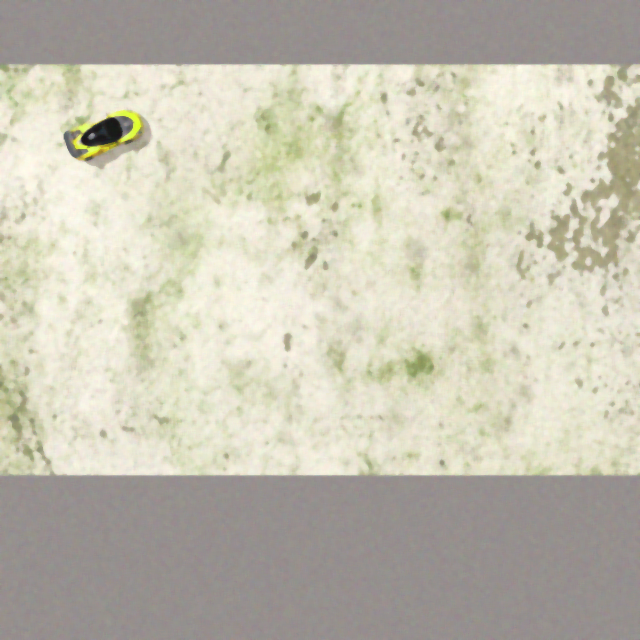car: (59, 101, 149, 166)
